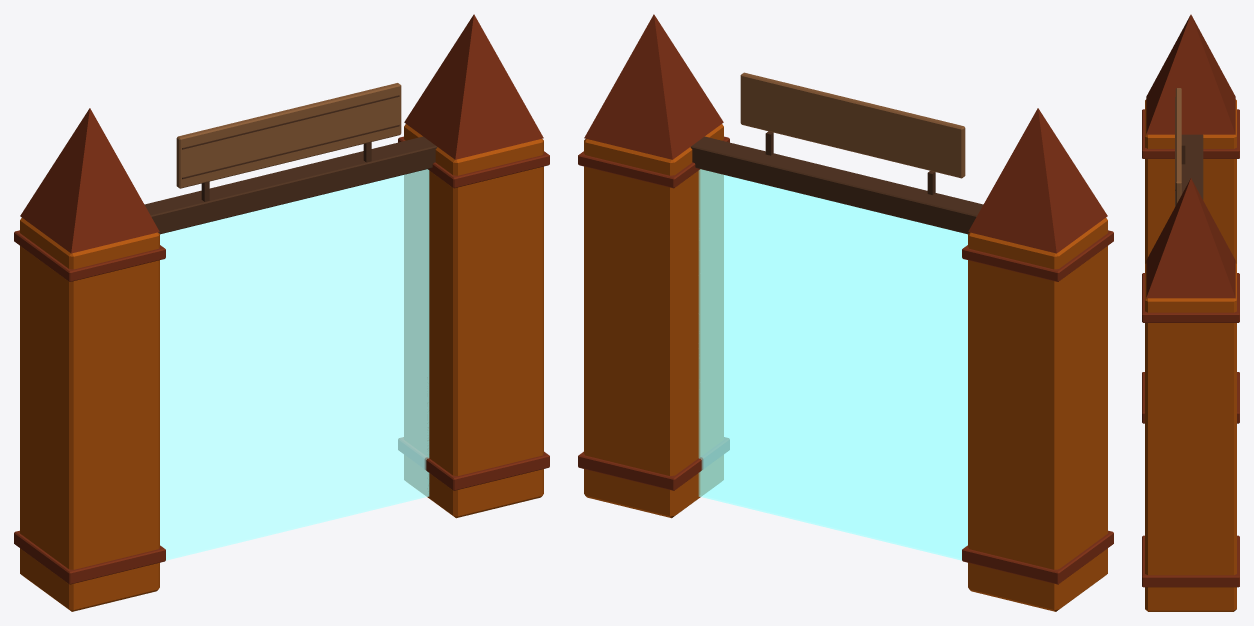
The model's file is gerbang_peta_v001.glb.
The picture shows the model from 3 angles, left to right: view 1: azimuth 30°, elevation 25°; view 2: azimuth 150°, elevation 25°; view 3: azimuth 270°, elevation 25°; orthographic projection. The views are drawn at different scales.
Visible parts, largest first — view 1: Gerbang_Peta, Portal, Papan_Gerbang; view 2: Gerbang_Peta, Portal, Papan_Gerbang; view 3: Gerbang_Peta, Papan_Gerbang.
Boxes of the visible parts, x1=… form: Gerbang_Peta: x1=14, y1=14, x2=549, y2=611; Portal: x1=160, y1=169, x2=429, y2=560; Papan_Gerbang: x1=176, y1=83, x2=401, y2=188; Gerbang_Peta: x1=578, y1=14, x2=1113, y2=611; Portal: x1=698, y1=169, x2=967, y2=560; Papan_Gerbang: x1=740, y1=72, x2=965, y2=178; Gerbang_Peta: x1=1142, y1=14, x2=1239, y2=611; Papan_Gerbang: x1=1175, y1=88, x2=1181, y2=206.
Bounding box in the file's own units: 4.76 × 4.5 × 0.96.
